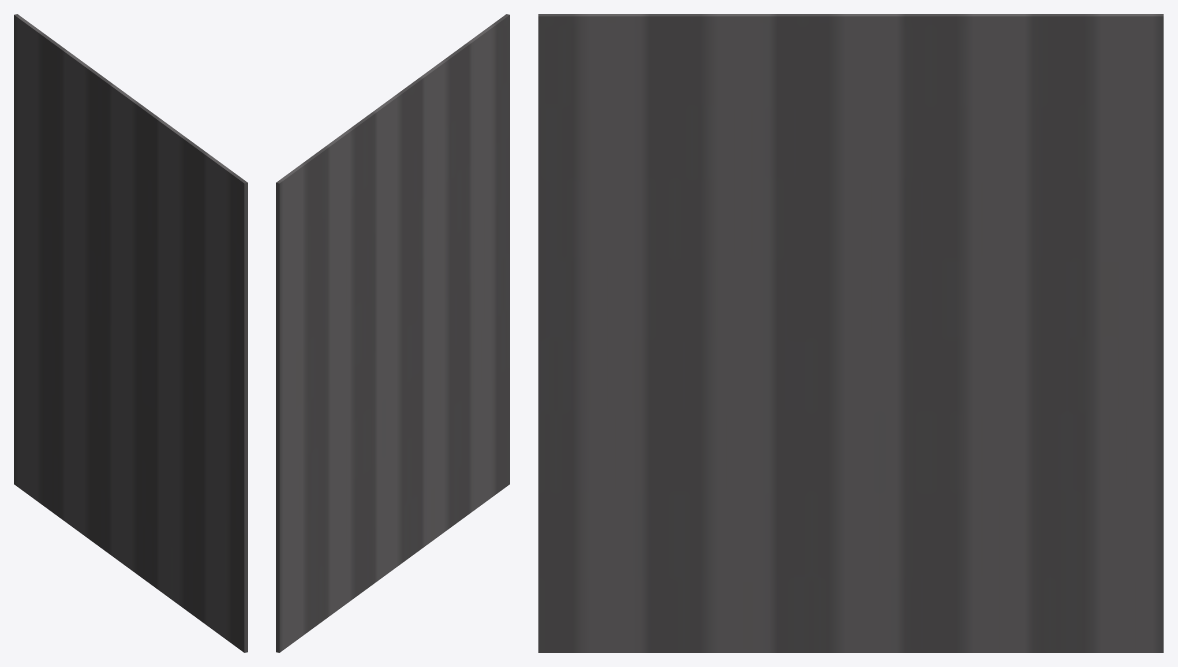
File: Placat_3.fbx
3 renders of one model, left to right at view 1: azimuth 30°, elevation 25°; view 2: azimuth 150°, elevation 25°; view 3: azimuth 270°, elevation 25°, orthographic. The views are drawn at different scales.
Visible parts, largest first — view 1: Placat_3; view 2: Placat_3; view 3: Placat_3.
Boxes of the visible parts, x1=… form: Placat_3: x1=14, y1=14, x2=247, y2=652; Placat_3: x1=276, y1=14, x2=509, y2=652; Placat_3: x1=538, y1=14, x2=1163, y2=652.
Bounding box in the file's own units: 0.9437 × 122 × 109.
